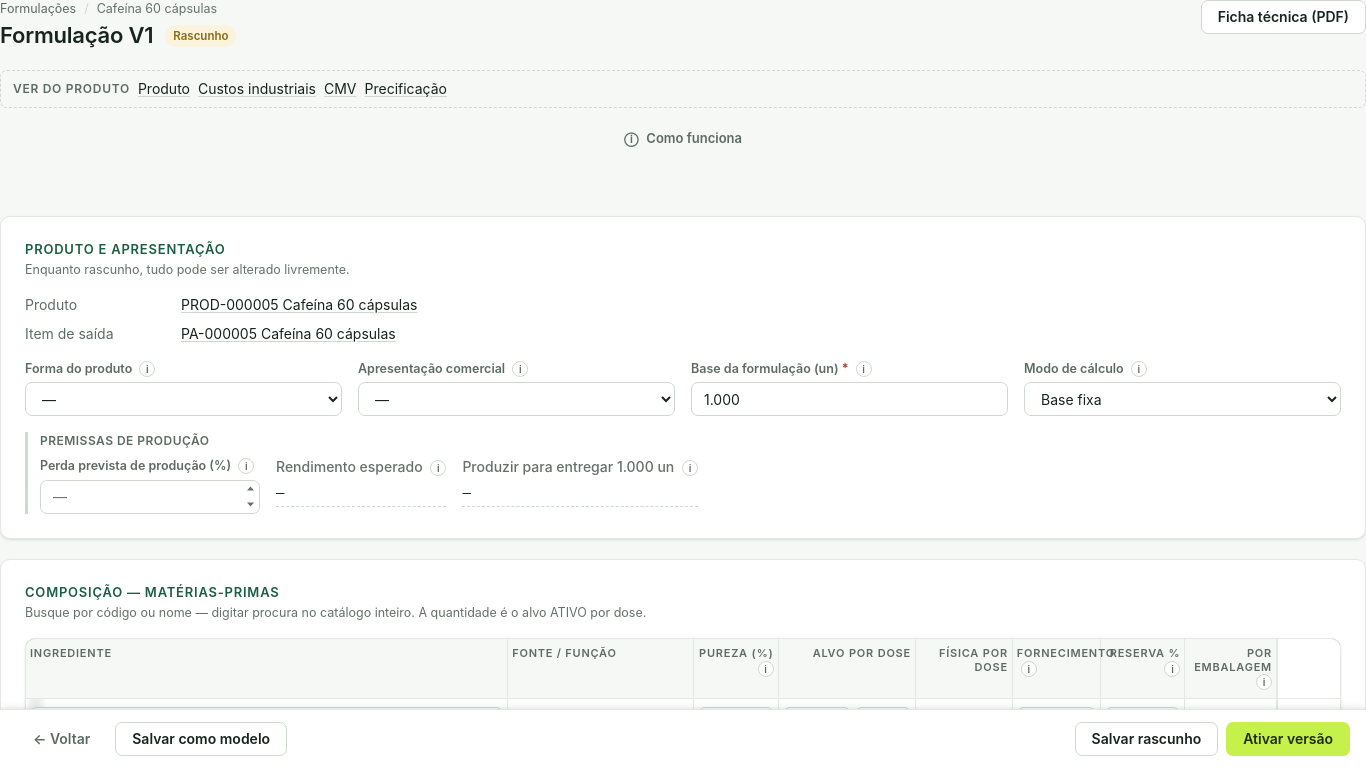
Test: Ativar versão com alteração pendente › D · falha de rede ao gravar também impede a ativação
Expected: the link "PROD-000005 Cafeína 60 cápsulas" is shown, [181,296,417,313]
Replace the text in the field labelled "Base da formulação (un) * i" with "2500" at (850, 399), box [691,382,1008,416]
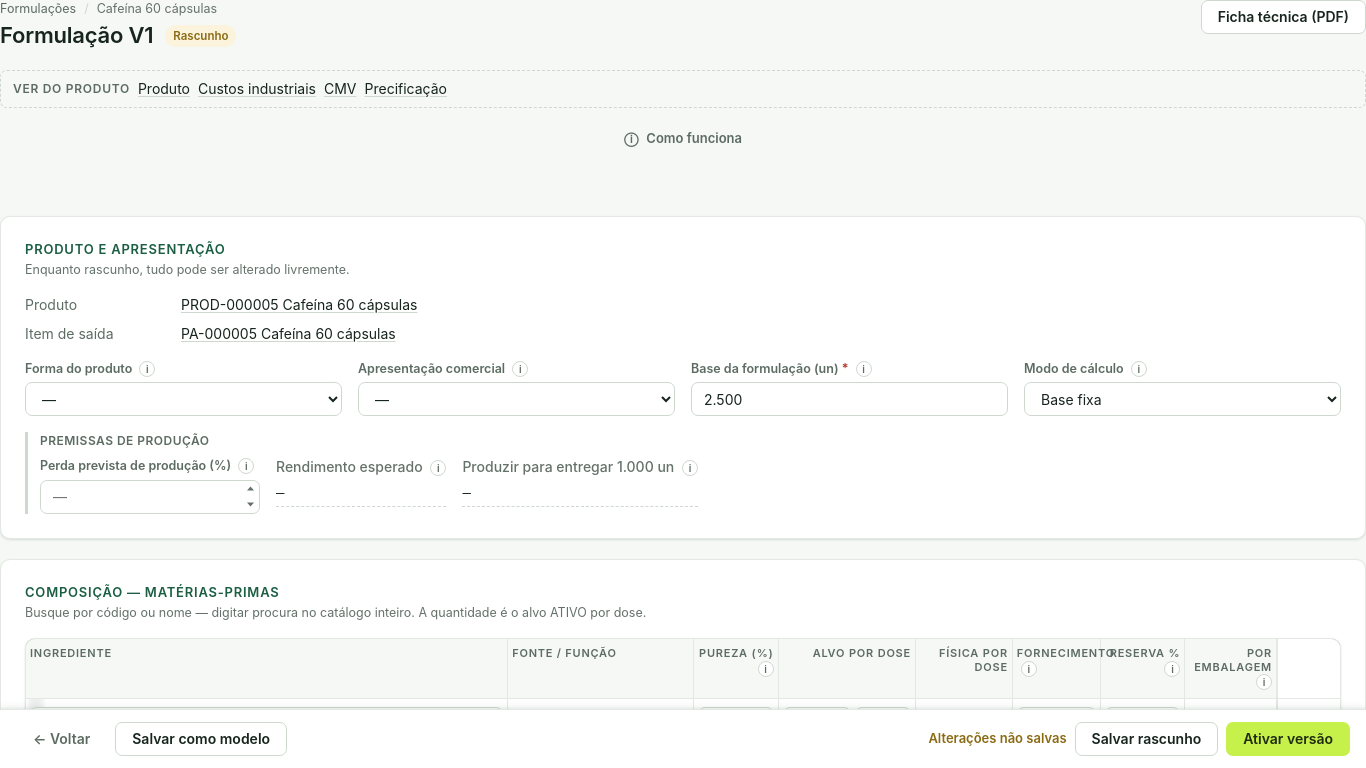
Click the button "Ativar versão" at (1288, 739), box [1226,722,1350,756]
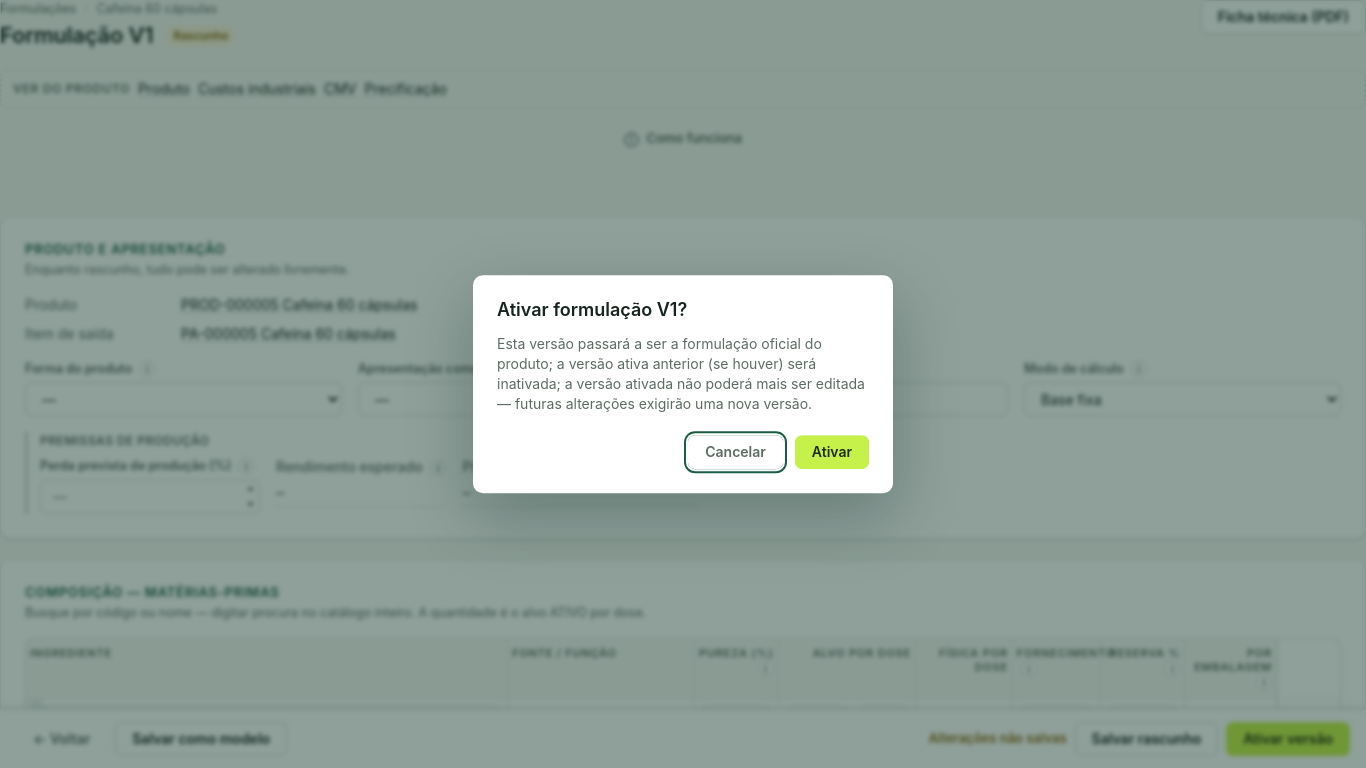
Expected: the dialog is shown, [473,275,893,493]
Click the button "Ativar" at (832, 452), box [795,435,869,469]
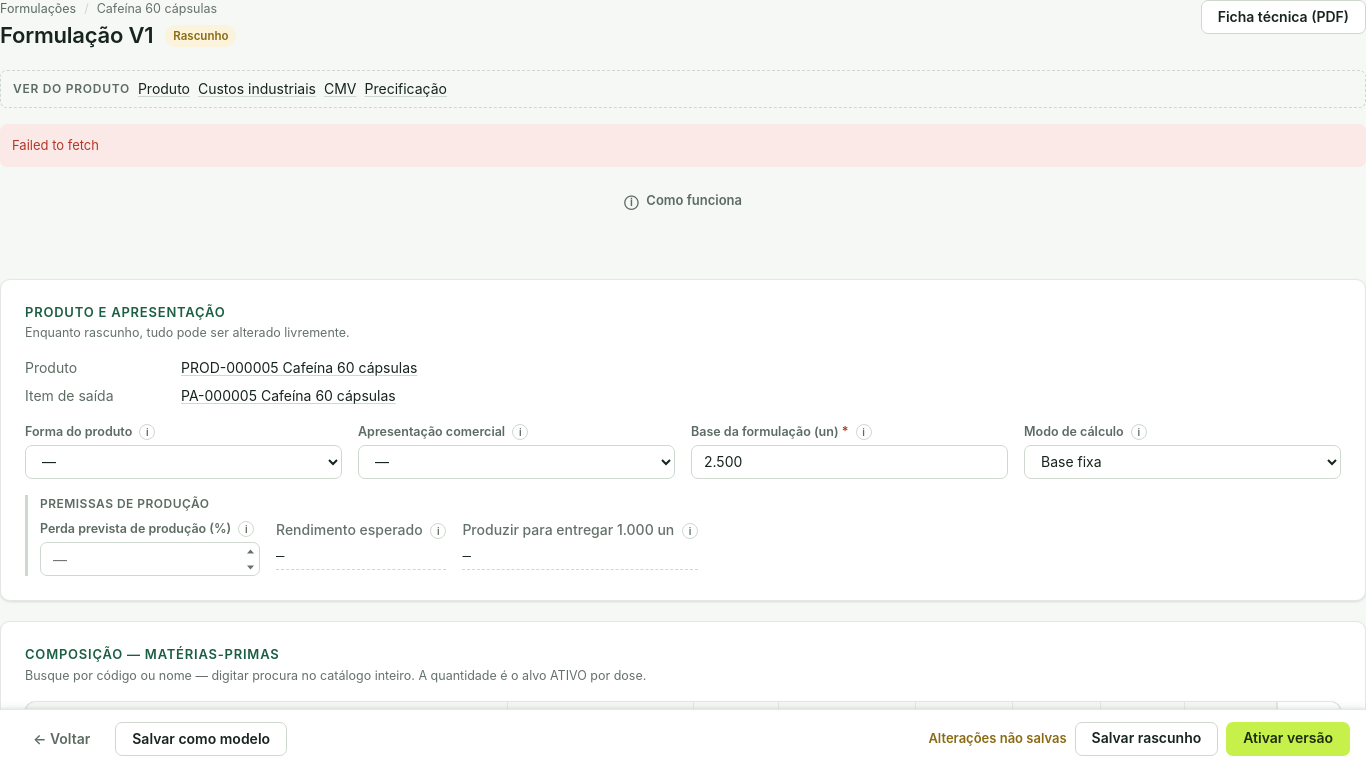
Expected: the text "Failed to fetch" is shown, [0,124,1365,167]
